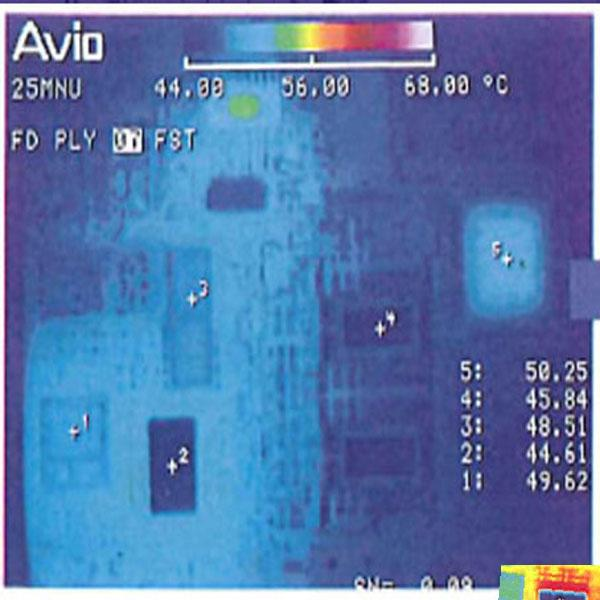componente_T: (494, 560, 600, 600), (285, 24, 347, 50)
